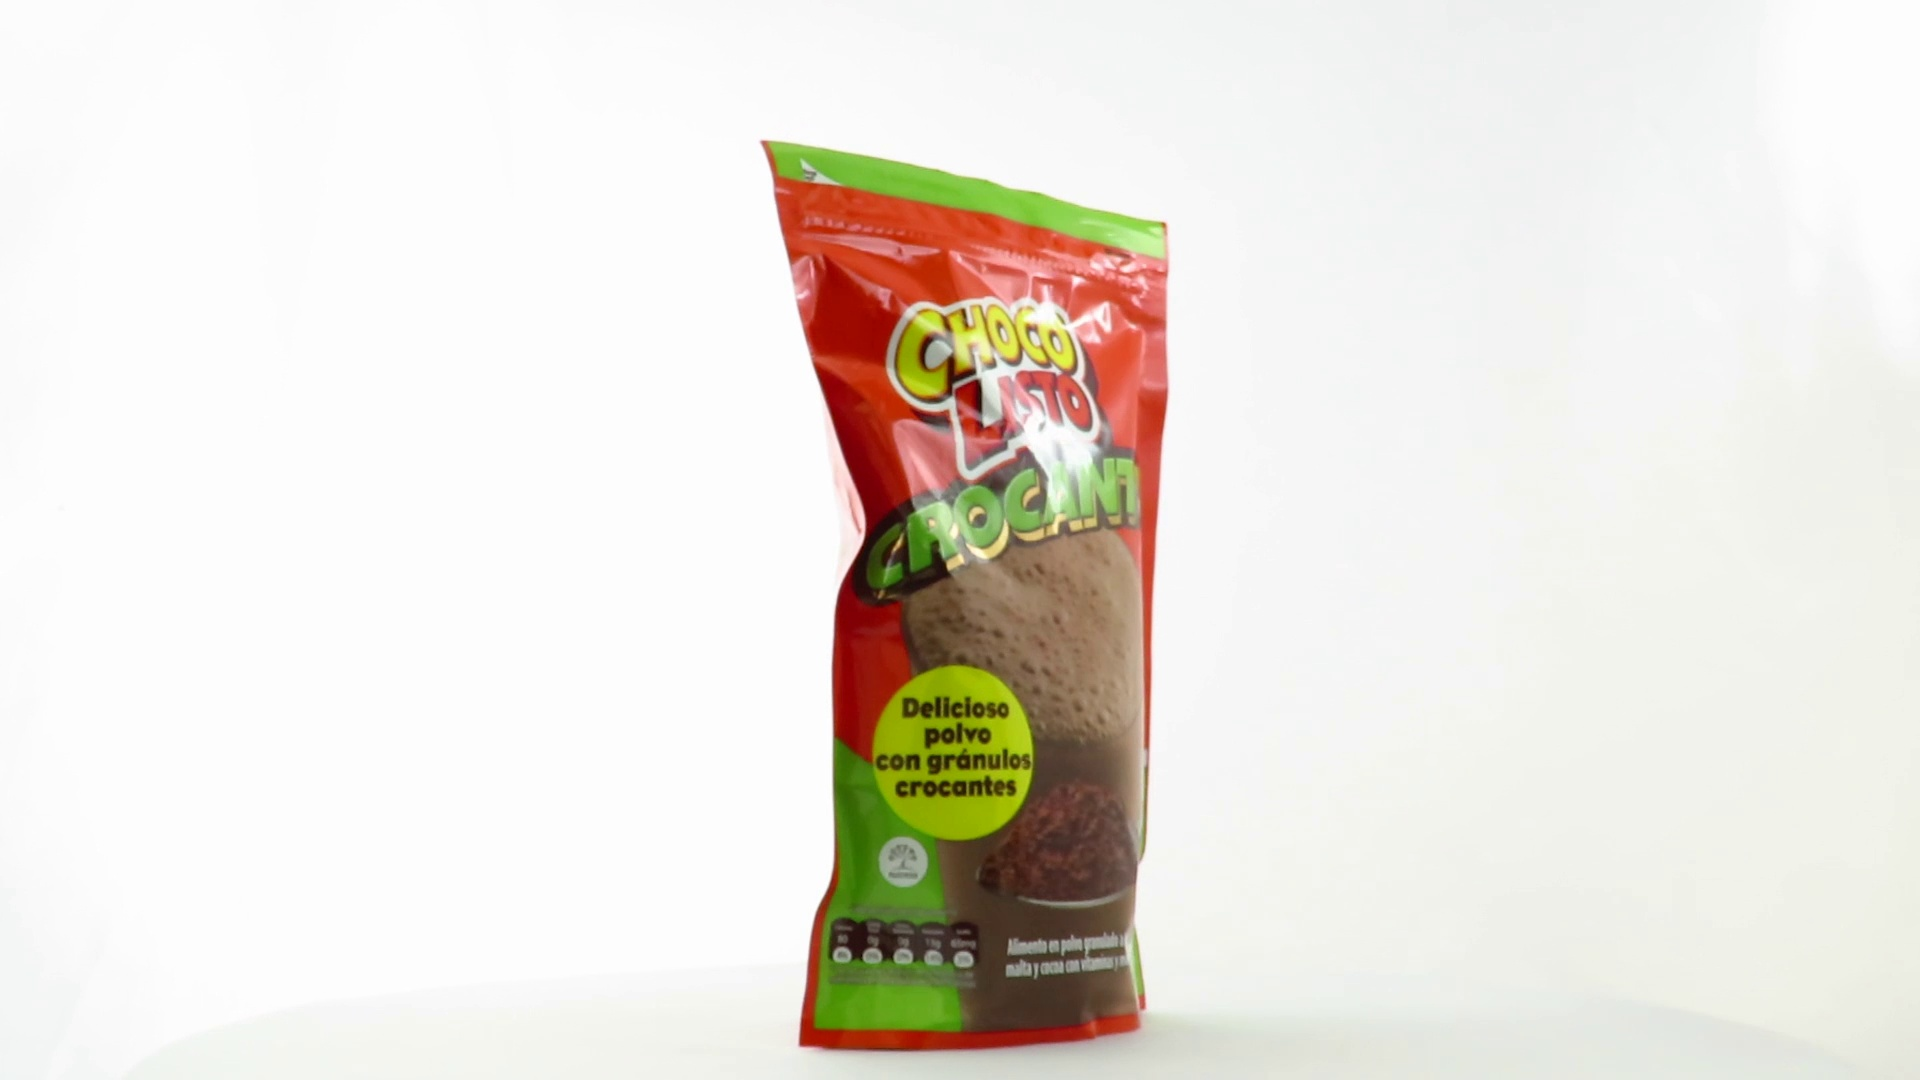COL0170102DYP50000: (756, 135, 1176, 1058)
